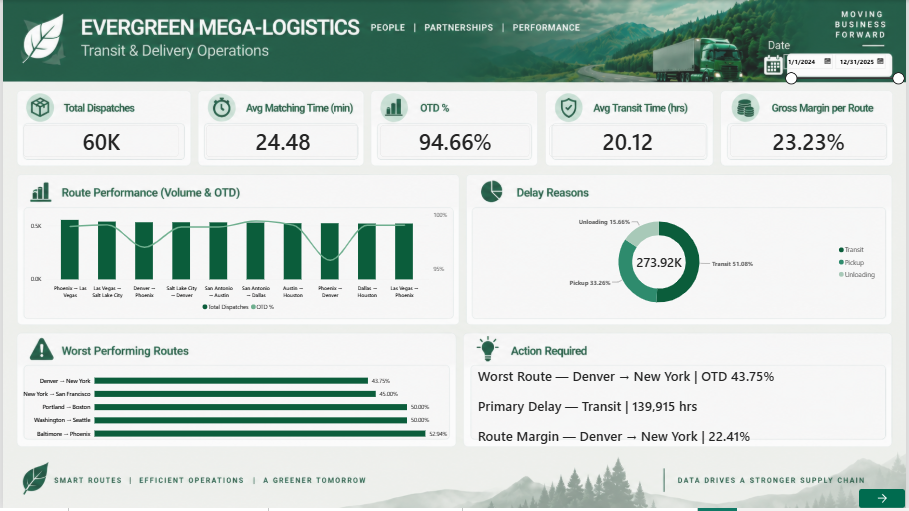

What the dashboard file says about the page in this screenshot:
{"tool":"powerbi","page":{"name":"Transit & Delivery Operations","canvas":[1920,1080],"ordinal":1},"visuals":[{"type":"cardVisual","fields":{"Data":["Measures (2).Total Dispatches"]},"box":[42.5,265.7,331.7,68],"z":0},{"type":"cardVisual","fields":{"Data":["Measures (2).OTD %"]},"box":[801.5,265.7,318.9,68],"z":1000},{"type":"cardVisual","fields":{"Data":["Measures (2).Avg Matching Time"]},"box":[431.6,265.7,325.3,68],"z":2000},{"type":"cardVisual","fields":{"Data":["Measures (2).Avg Transit Time"]},"box":[1160.8,265.7,333.8,68],"z":3000},{"type":"cardVisual","fields":{"Data":["Measures (2).Gross Margin per Route"]},"box":[1545.6,265.7,333.8,68],"z":4000},{"type":"lineClusteredColumnComboChart","fields":{"Category":["evergreen_mega_logistics fact_shipments.Route"],"Y":["Measures (2).Total Dispatches"],"Y2":["Measures (2).OTD %"]},"box":[42.8,434.5,918.3,248.3],"z":5000},{"type":"donutChart","fields":{"Category":["evergreen_mega_logistics fact_shipments.Delay_Category"],"Y":["Sum(evergreen_mega_logistics fact_shipments.Total_Delay_Hours)"]},"box":[997.5,434.5,881.9,248.3],"z":6000},{"type":"clusteredBarChart","fields":{"Category":["evergreen_mega_logistics fact_shipments.Route"],"Y":["Measures (2).OTD %"]},"box":[25.5,769.6,935.4,187.1],"z":7000},{"type":"cardVisual","fields":{"Data":["Measures (2).Worst Route Insight","Measures (2).Delay Insight","Measures (2).Route Margin Insight"]},"box":[997.5,770.6,881.9,186.2],"z":8000},{"type":"slicer","fields":{"Values":["evergreen_mega_logistics dim_date.Date"]},"box":[1652.4,111.3,267.6,72.8],"z":9000},{"type":"actionButton","box":[1819.8,1039.6,97.8,40.4],"z":10000}]}

Visuals, with their boxes in screenshot pixels (x1, y1, x2, y2), scaled from the page's 1920x1080 canvas onto the 909x511 screenshot:
cardVisual - Measures (2).Total Dispatches: select_region(20, 126, 177, 158)
cardVisual - Measures (2).OTD %: select_region(379, 126, 530, 158)
cardVisual - Measures (2).Avg Matching Time: select_region(204, 126, 358, 158)
cardVisual - Measures (2).Avg Transit Time: select_region(550, 126, 708, 158)
cardVisual - Measures (2).Gross Margin per Route: select_region(732, 126, 890, 158)
lineClusteredColumnComboChart - evergreen_mega_logistics fact_shipments.Route x Measures (2).Total Dispatches: select_region(20, 206, 455, 323)
donutChart - evergreen_mega_logistics fact_shipments.Delay_Category x Sum(evergreen_mega_logistics fact_shipments.Total_Delay_Hours): select_region(472, 206, 890, 323)
clusteredBarChart - evergreen_mega_logistics fact_shipments.Route x Measures (2).OTD %: select_region(12, 364, 455, 453)
cardVisual - Measures (2).Worst Route Insight x Measures (2).Delay Insight: select_region(472, 365, 890, 453)
slicer - evergreen_mega_logistics dim_date.Date: select_region(782, 53, 908, 87)
actionButton: select_region(862, 492, 908, 510)
